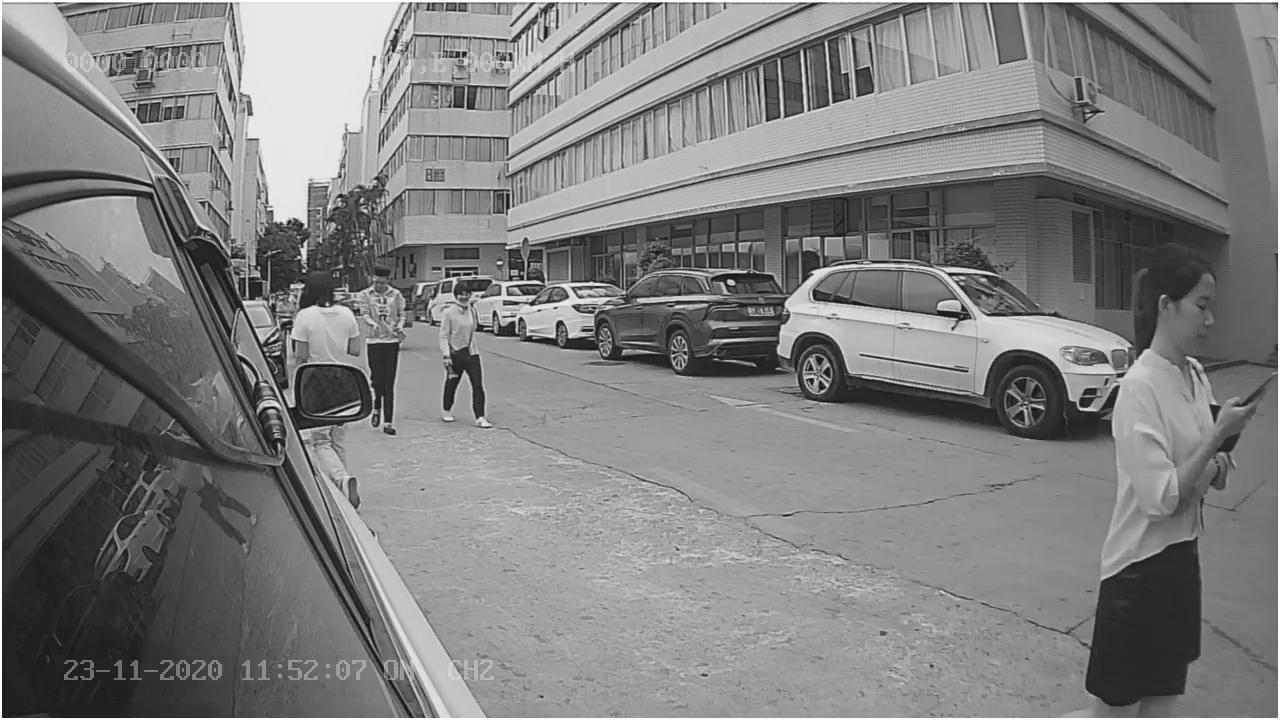person: (432, 279, 499, 430)
